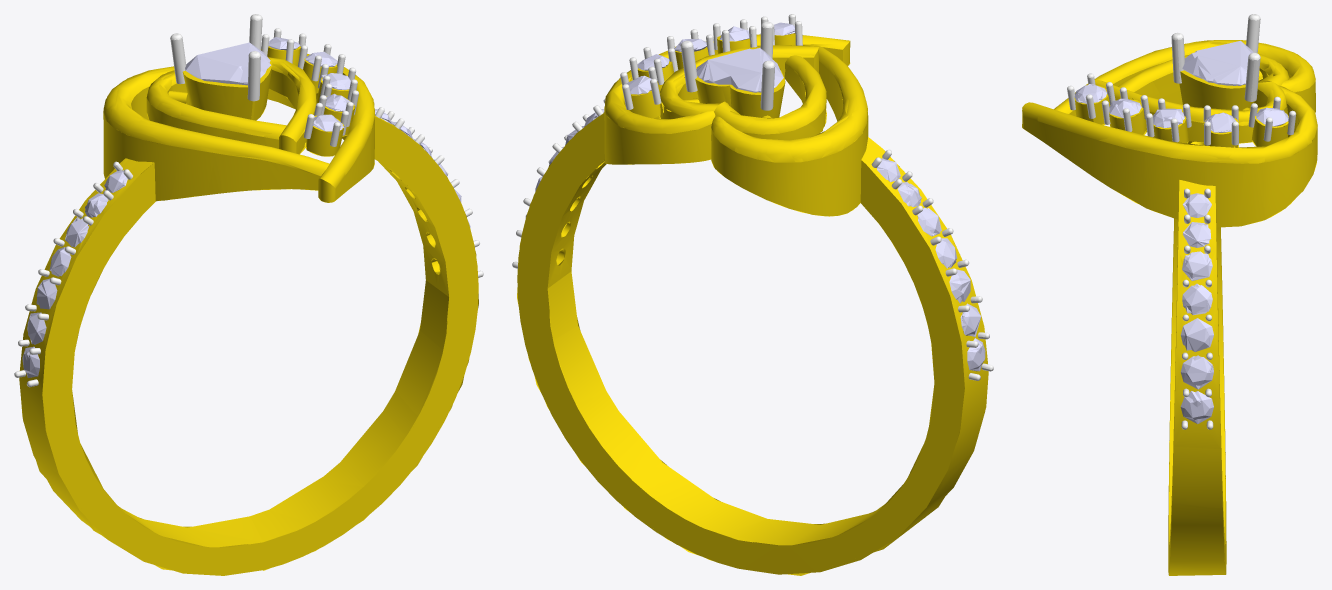
Rendered from DLR-D000611086.glb.
The picture shows the model from 3 angles, left to right: view 1: azimuth 30°, elevation 25°; view 2: azimuth 150°, elevation 25°; view 3: azimuth 270°, elevation 25°; orthographic projection. The views are drawn at different scales.
Parts seen in each view (by area): view 1: highPolyMesh, lowPolyMesh; view 2: highPolyMesh, lowPolyMesh; view 3: highPolyMesh, lowPolyMesh.
Part boxes in pixels (left/top/right/bottom): highPolyMesh: left=14, top=14, right=483, bottom=575; lowPolyMesh: left=14, top=14, right=483, bottom=570; highPolyMesh: left=512, top=14, right=993, bottom=574; lowPolyMesh: left=512, top=14, right=993, bottom=575; highPolyMesh: left=1022, top=14, right=1317, bottom=575; lowPolyMesh: left=1022, top=14, right=1317, bottom=544.
Size of the model in its own units: 0.0208 by 0.0225 by 0.0117.
